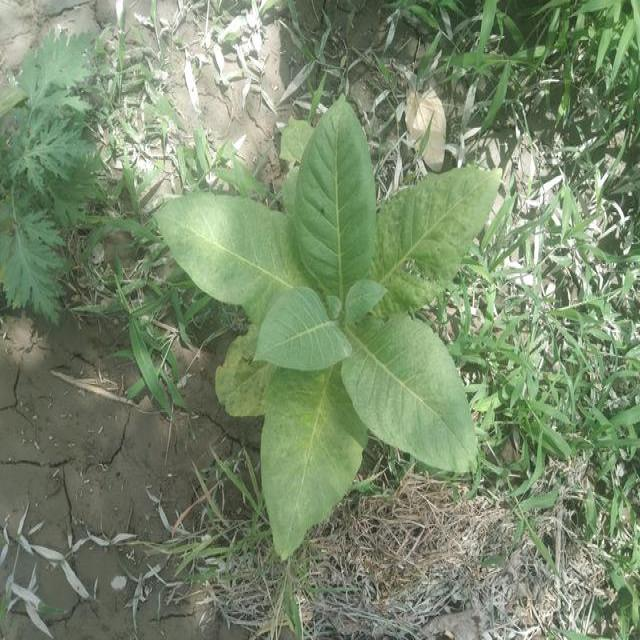crop: (177, 104, 503, 544)
